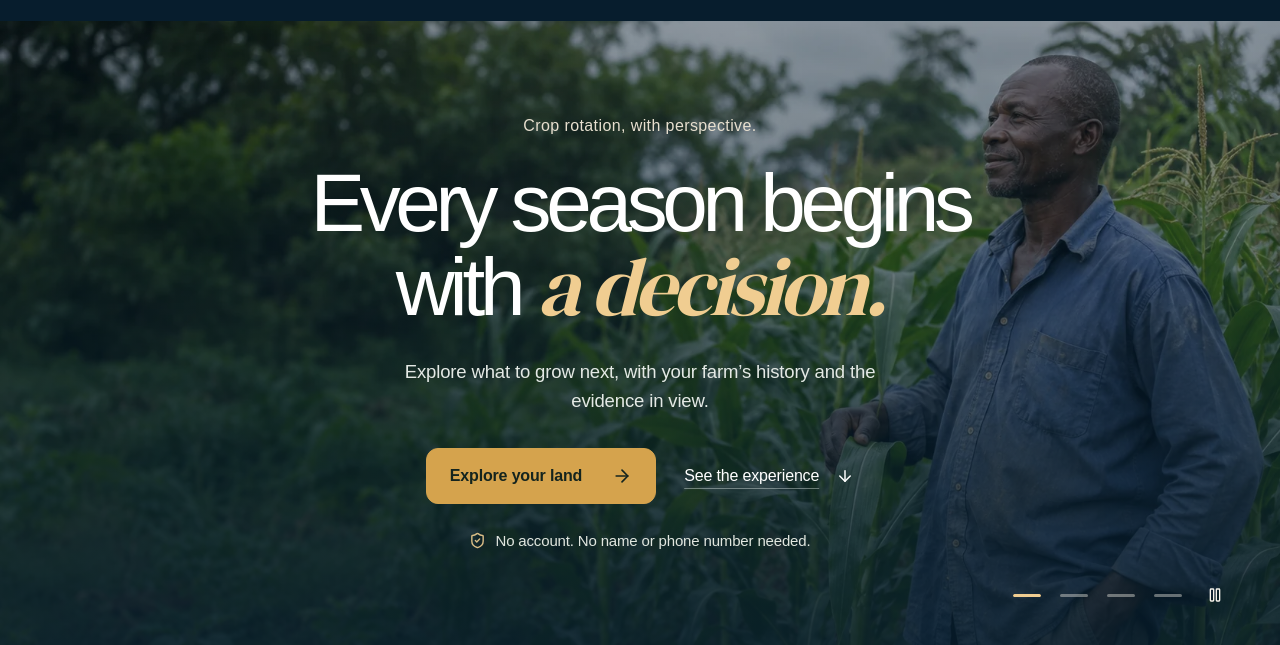
Scenario: does not advance when the fresh API says previously available records are unavailable
The image size is (1280, 645).
Click the button "Explore your land" at (541, 476), box x1=426 y1=448 x2=656 y2=504
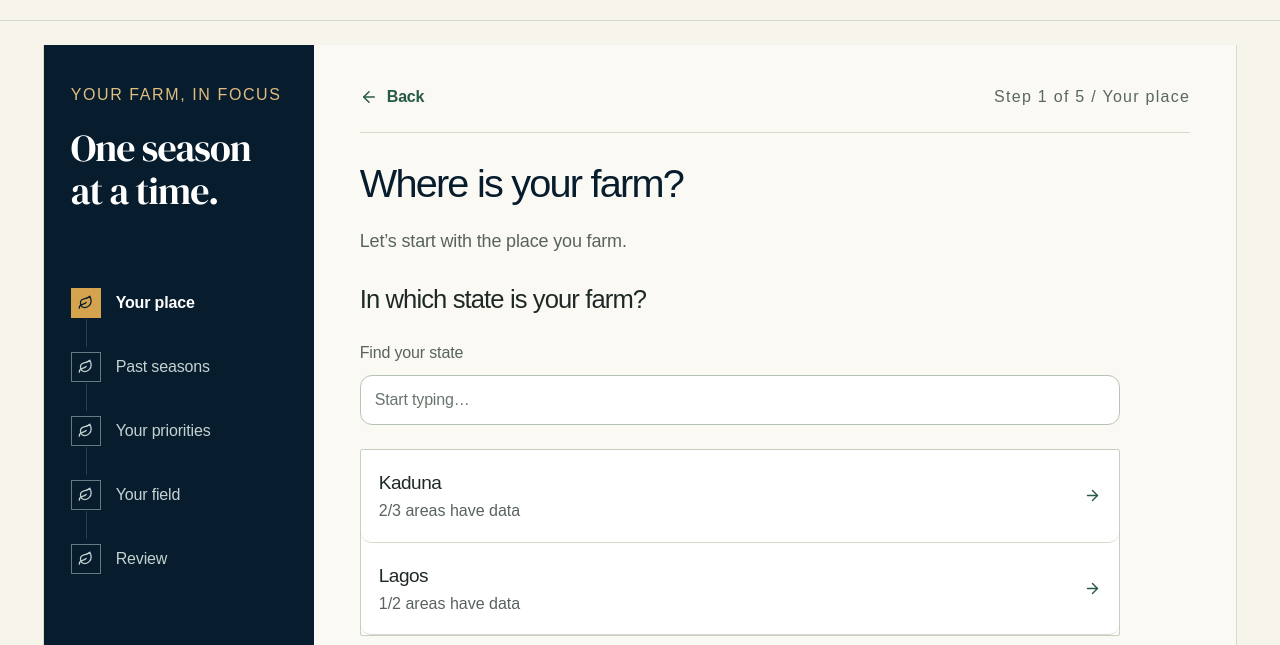
Now the button "Kaduna 2/3 areas have data" is shown
Click the button "Kaduna 2/3 areas have data" at (410, 482), box x1=361 y1=450 x2=1119 y2=543
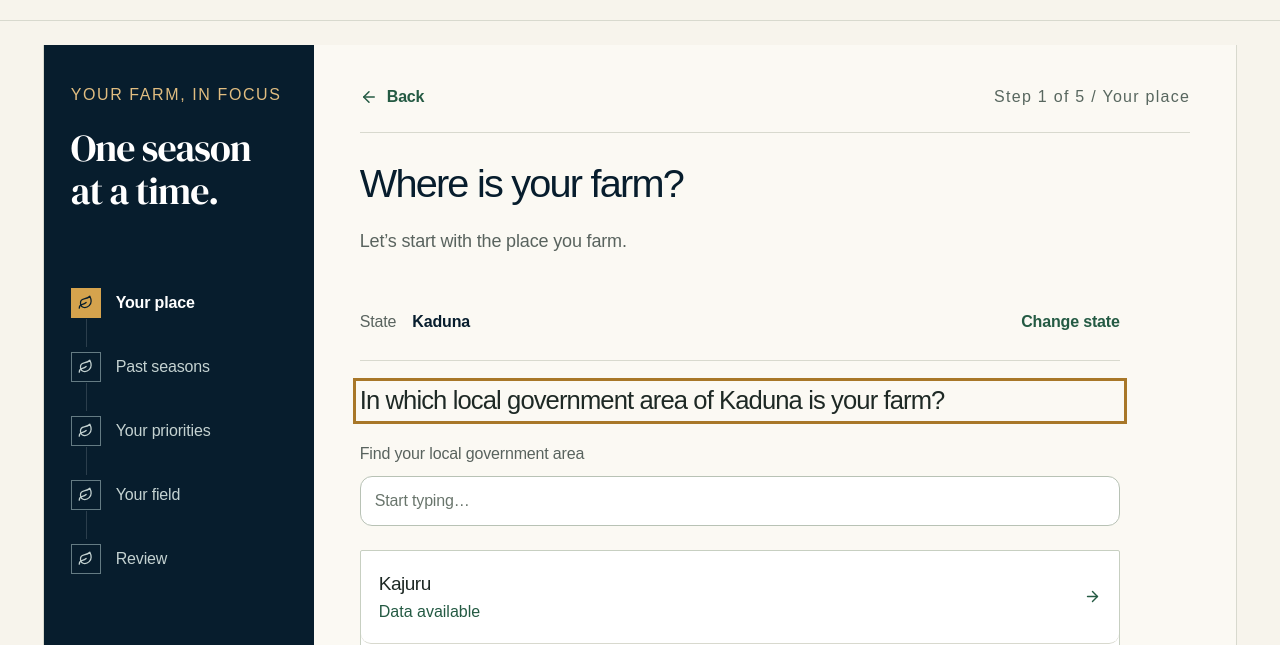
Click the button "Kajuru Data available" at (405, 583), box x1=361 y1=551 x2=1119 y2=644
(page scrolled)
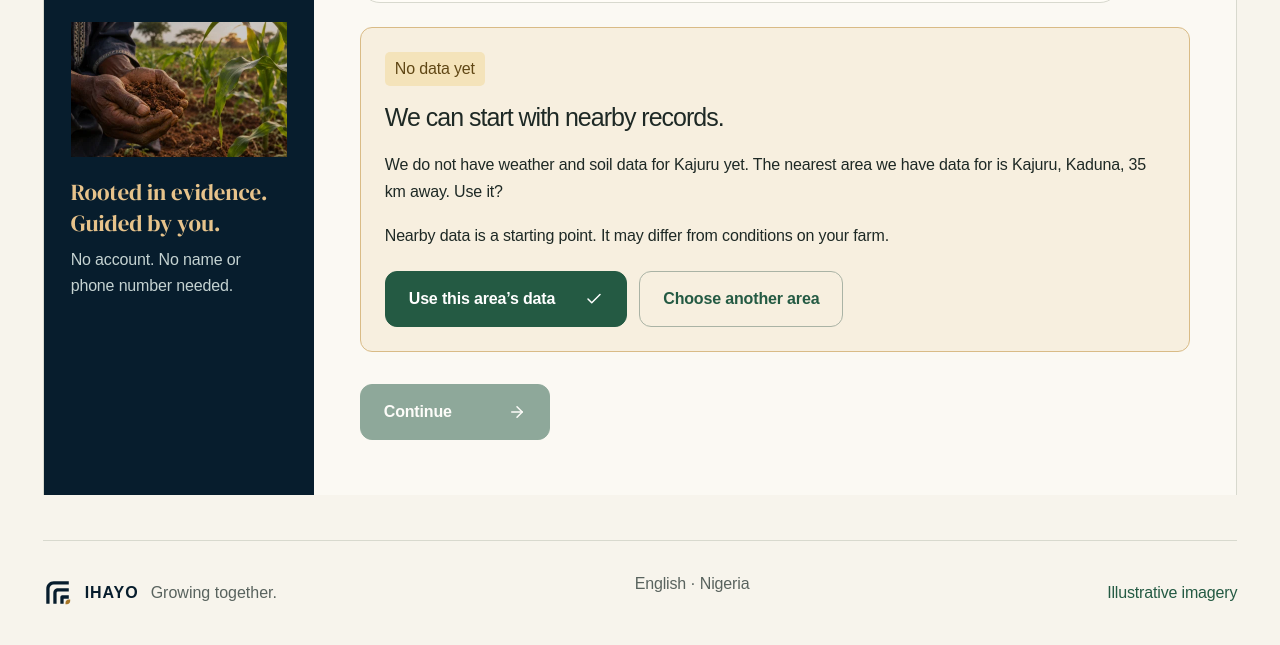
Now the button "Use this area’s data" is shown, box x1=385 y1=271 x2=627 y2=327
Now the button "Continue" is disabled, box x1=360 y1=384 x2=550 y2=440
